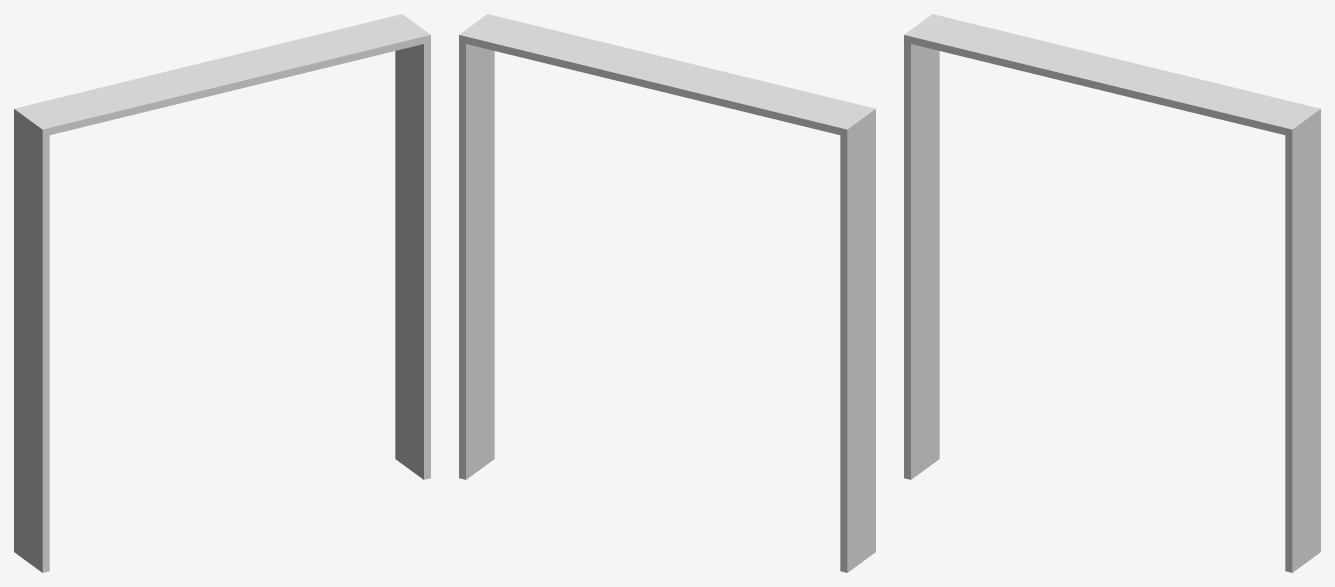
The model's file is OpeningFrame.obj.
The picture shows the model from 3 angles, left to right: view 1: azimuth 30°, elevation 25°; view 2: azimuth 150°, elevation 25°; view 3: azimuth 330°, elevation 25°; orthographic projection.
Size of the model in its own units: 5.5 by 6 by 0.7.
Materials: 1 (1 with a texture image).
